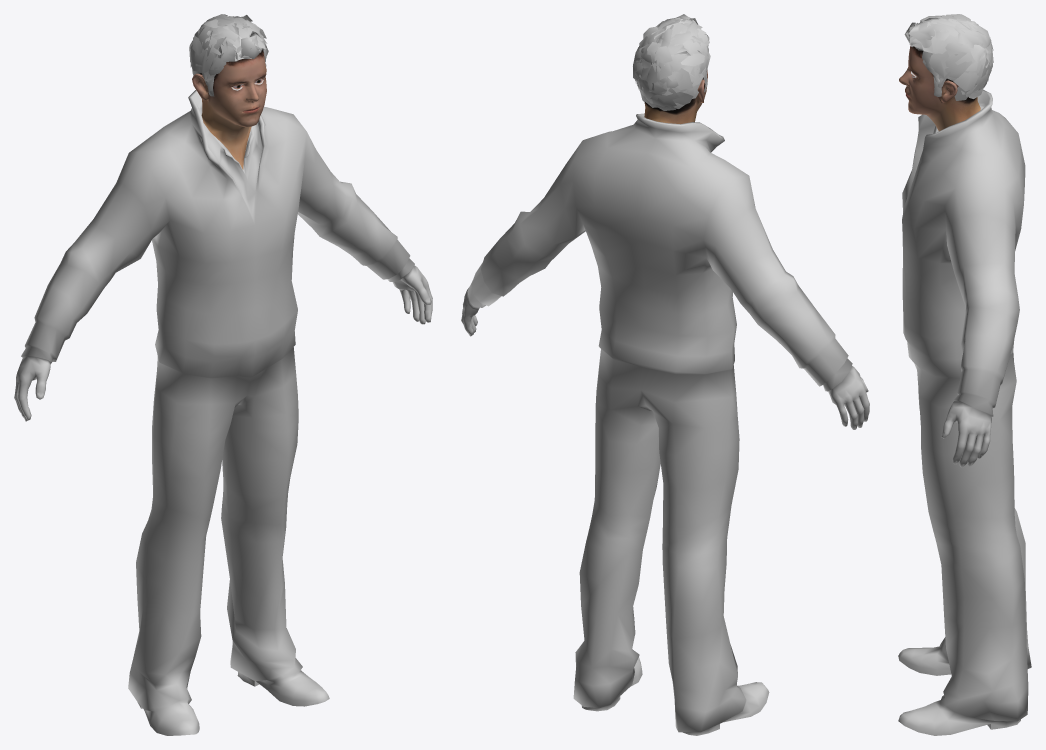
File: head2.FBX
3 views of the same model, side by side, from view 1: azimuth 30°, elevation 25°; view 2: azimuth 150°, elevation 25°; view 3: azimuth 270°, elevation 25° (orthographic). The views are drawn at different scales.
Visible parts, largest first — view 1: CMan0002-M3-Body, CMan0002-M3-Hair; view 2: CMan0002-M3-Body, CMan0002-M3-Hair; view 3: CMan0002-M3-Body, CMan0002-M3-Hair.
Boxes of the visible parts, bbox=[...] form: CMan0002-M3-Body: bbox=[14, 50, 432, 735]; CMan0002-M3-Hair: bbox=[189, 14, 268, 96]; CMan0002-M3-Body: bbox=[461, 70, 869, 735]; CMan0002-M3-Hair: bbox=[633, 14, 710, 110]; CMan0002-M3-Body: bbox=[898, 46, 1031, 735]; CMan0002-M3-Hair: bbox=[904, 14, 993, 100].
Bounding box in the file's own units: 1.15 × 1.83 × 0.3272.
